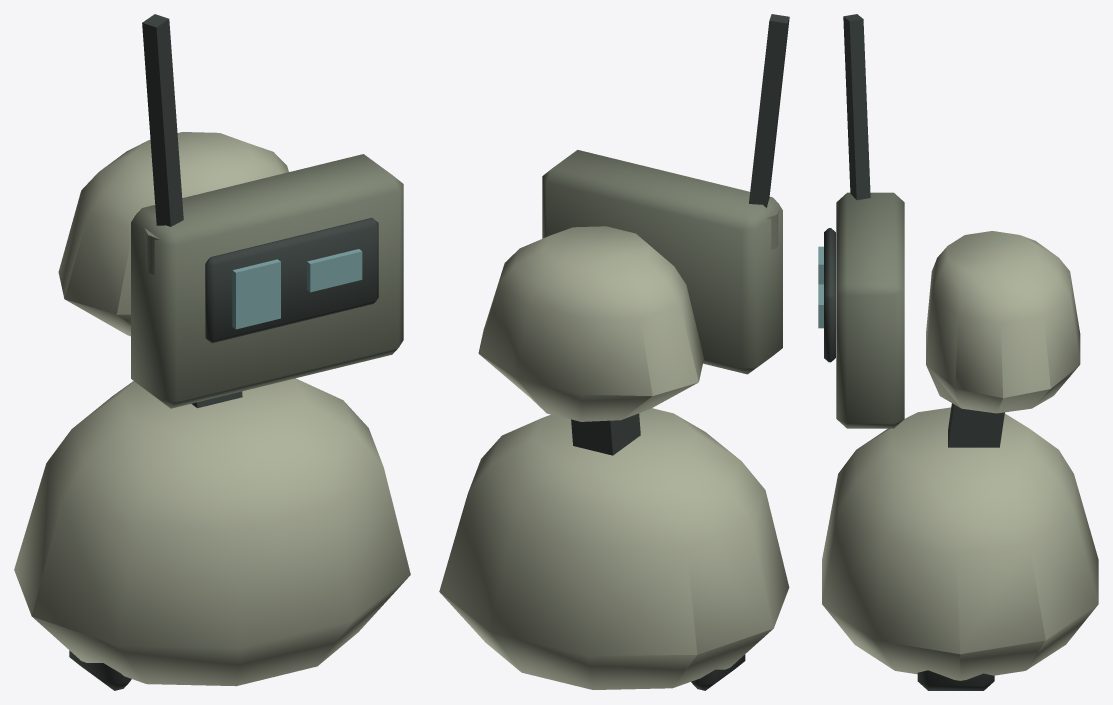
The model's file is lancer.obj.
The picture shows the model from 3 angles, left to right: view 1: azimuth 30°, elevation 25°; view 2: azimuth 150°, elevation 25°; view 3: azimuth 270°, elevation 25°; orthographic projection. The views are drawn at different scales.
Parts seen in each view (by area): view 1: rigid_shell_002, rigid_shell_005, rigid_shell_004, rigid_shell_006, rigid_shell_009, rigid_shell_007, rigid_shell_008, rigid_shell_000; view 2: rigid_shell_002, rigid_shell_004, rigid_shell_005, rigid_shell_009, rigid_shell_003, rigid_shell_000; view 3: rigid_shell_002, rigid_shell_004, rigid_shell_005, rigid_shell_009, rigid_shell_003, rigid_shell_006, rigid_shell_001.
Boxes of the visible parts, bbox=[...] form: rigid_shell_002: bbox=[14, 378, 410, 686]; rigid_shell_005: bbox=[131, 154, 403, 408]; rigid_shell_004: bbox=[58, 132, 288, 336]; rigid_shell_006: bbox=[205, 218, 378, 343]; rigid_shell_009: bbox=[142, 14, 183, 226]; rigid_shell_007: bbox=[232, 259, 280, 329]; rigid_shell_008: bbox=[307, 249, 362, 292]; rigid_shell_000: bbox=[69, 650, 131, 690]; rigid_shell_002: bbox=[439, 408, 789, 689]; rigid_shell_004: bbox=[478, 226, 703, 421]; rigid_shell_005: bbox=[542, 150, 782, 374]; rigid_shell_009: bbox=[749, 14, 789, 207]; rigid_shell_003: bbox=[571, 413, 640, 455]; rigid_shell_000: bbox=[691, 654, 745, 690]; rigid_shell_002: bbox=[822, 407, 1098, 680]; rigid_shell_004: bbox=[926, 231, 1080, 413]; rigid_shell_005: bbox=[836, 192, 904, 428]; rigid_shell_009: bbox=[843, 14, 870, 200]; rigid_shell_003: bbox=[948, 403, 1004, 447]; rigid_shell_006: bbox=[824, 228, 835, 362]; rigid_shell_001: bbox=[917, 670, 994, 690].
Size of the model in its own units: 0.8 by 1.49 by 0.6554.
